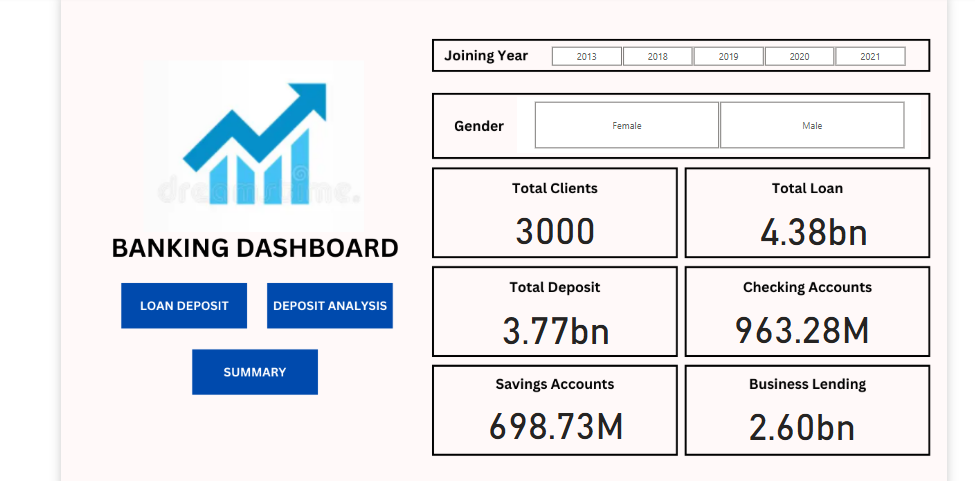

What the dashboard file says about the page in this screenshot:
{"tool":"powerbi","page":{"name":"Home 2","canvas":[1280,720],"ordinal":1},"visuals":[{"type":"card","fields":{"Values":["Min(banking_case customer.Name)"]},"box":[580.5,275.2,213.6,74.7],"z":0},{"type":"slicer","fields":{"Values":["banking_case customer.GenderId"]},"box":[629.8,145.2,614.3,81],"z":1000},{"type":"card","fields":{"Values":["banking_case customer.Total Loan"]},"box":[951.4,275.2,214.9,74.7],"z":2000},{"type":"card","fields":{"Values":["banking_case customer.Total Deposit"]},"box":[581.8,419.3,212.3,74.7],"z":3000},{"type":"slicer","fields":{"Values":["banking_case customer.Year of Joining"]},"box":[671.4,83.3,560.7,34.5],"z":4000},{"type":"card","fields":{"Values":["Sum(banking_case customer.Saving Accounts)"]},"box":[580.5,560.9,213.6,74.7],"z":5000},{"type":"card","fields":{"Values":["Sum(banking_case customer.Business Lending)"]},"box":[951.4,559.5,213.6,74.7],"z":6000},{"type":"card","fields":{"Values":["Sum(banking_case customer.Checking Accounts)"]},"box":[951.4,418,213.6,76],"z":7000},{"type":"actionButton","box":[191.5,514.3,175.7,55.4],"z":8000},{"type":"actionButton","box":[348.2,31.7,221.6,39.6],"z":9000},{"type":"actionButton","box":[91.8,417.8,172.5,58.6],"z":10000},{"type":"actionButton","box":[297.5,419.4,185.2,57],"z":11000}]}

Visuals, with their boxes on the page's 1280x720 design canvas (x1, y1, x2, y2). These are canvas units, not pixel positions in the 975x481 screenshot, which may show the page scaled, cropped or inside an application window:
card - Min(banking_case customer.Name): <bbox>580, 275, 794, 350</bbox>
slicer - banking_case customer.GenderId: <bbox>630, 145, 1244, 226</bbox>
card - banking_case customer.Total Loan: <bbox>951, 275, 1166, 350</bbox>
card - banking_case customer.Total Deposit: <bbox>582, 419, 794, 494</bbox>
slicer - banking_case customer.Year of Joining: <bbox>671, 83, 1232, 118</bbox>
card - Sum(banking_case customer.Saving Accounts): <bbox>580, 561, 794, 636</bbox>
card - Sum(banking_case customer.Business Lending): <bbox>951, 560, 1165, 634</bbox>
card - Sum(banking_case customer.Checking Accounts): <bbox>951, 418, 1165, 494</bbox>
actionButton: <bbox>192, 514, 367, 570</bbox>
actionButton: <bbox>348, 32, 570, 71</bbox>
actionButton: <bbox>92, 418, 264, 476</bbox>
actionButton: <bbox>298, 419, 483, 476</bbox>
